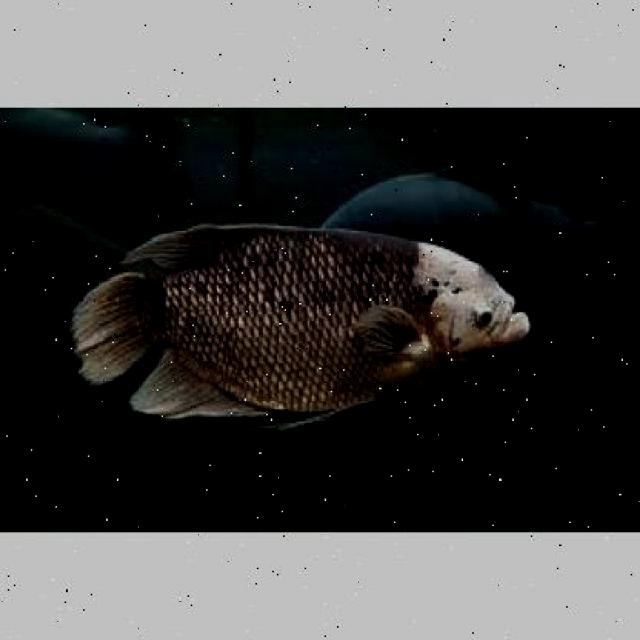gurame: (110, 226, 536, 427)
